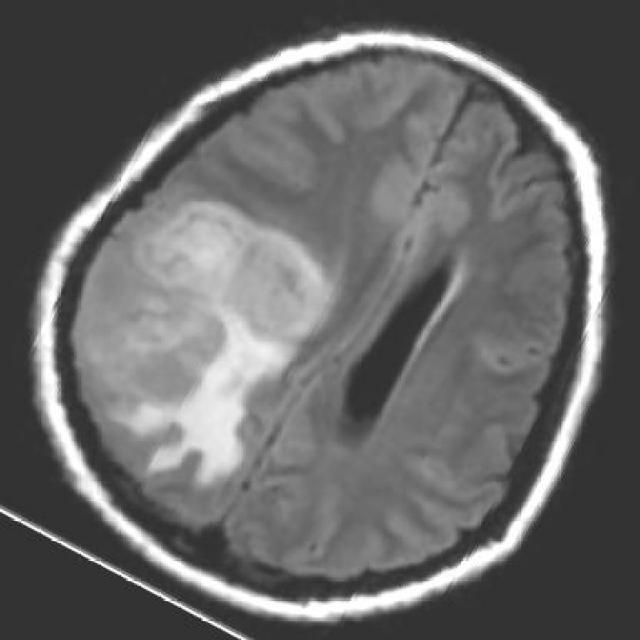Brain-Tumor: (57, 180, 342, 505)
